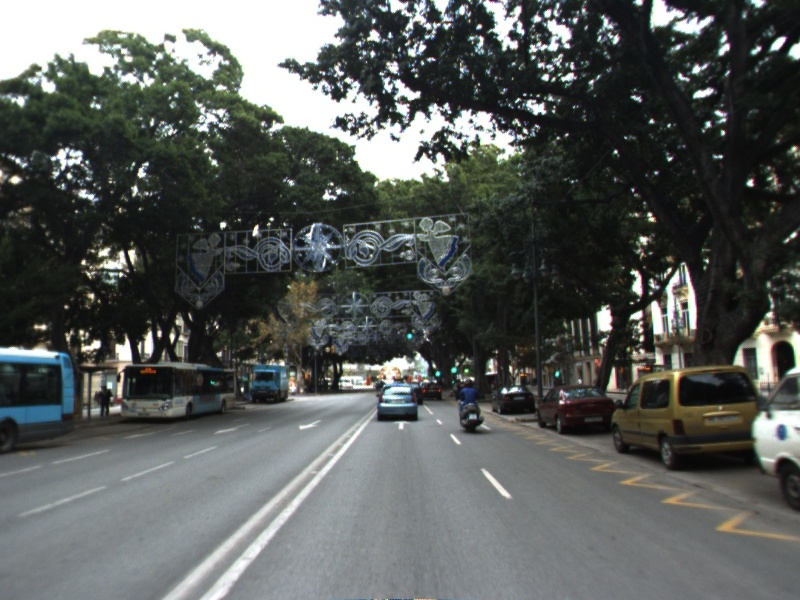STRAIGHT: (391, 419, 412, 431)
